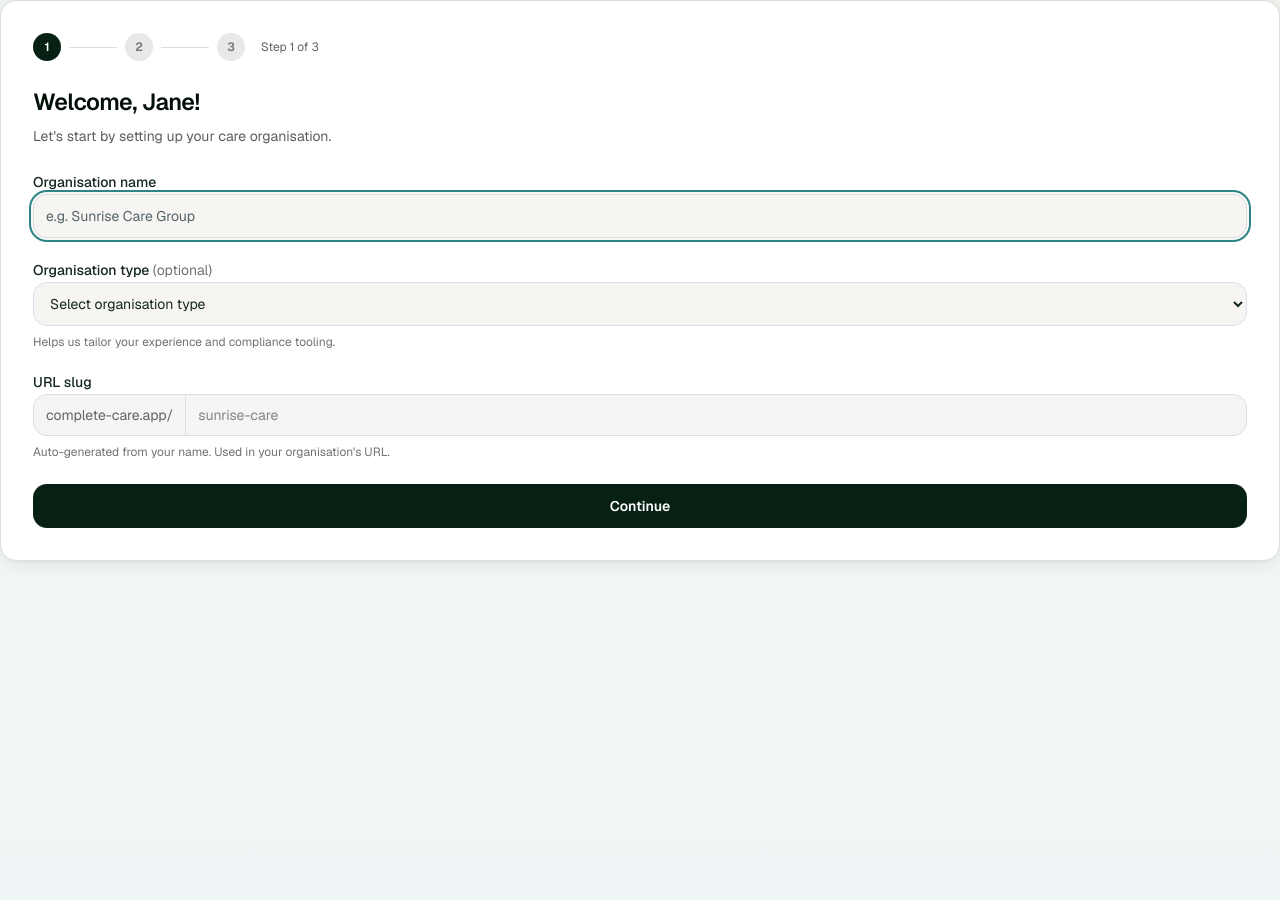
OnboardingWizard › step 1: organisation details › shows validation error when name is empty and Continue is clicked
This screenshot has width=1280, height=900.
Step 1. Click the button "Continue" → x=640, y=506, box [33,484,1247,528]
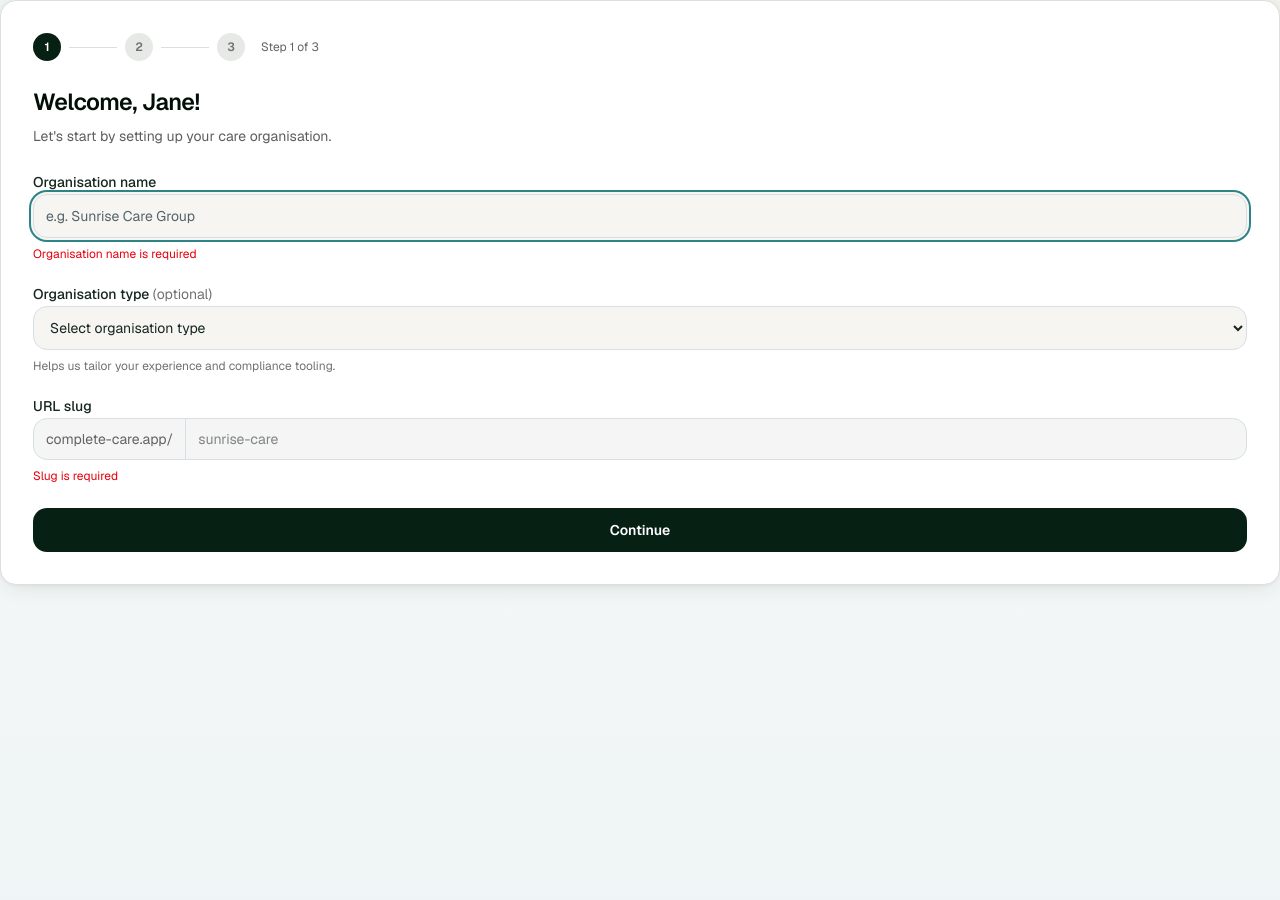
Check: the text "Organisation name is required" is shown, box [33,246,197,262]
